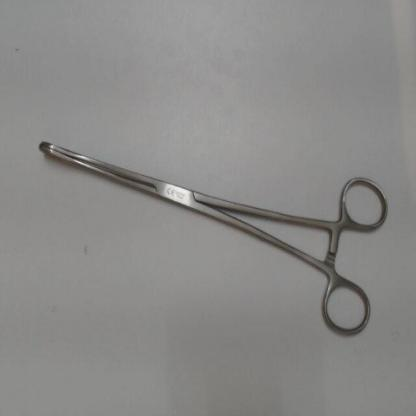Sponge Forceps: (32, 133, 393, 345)
